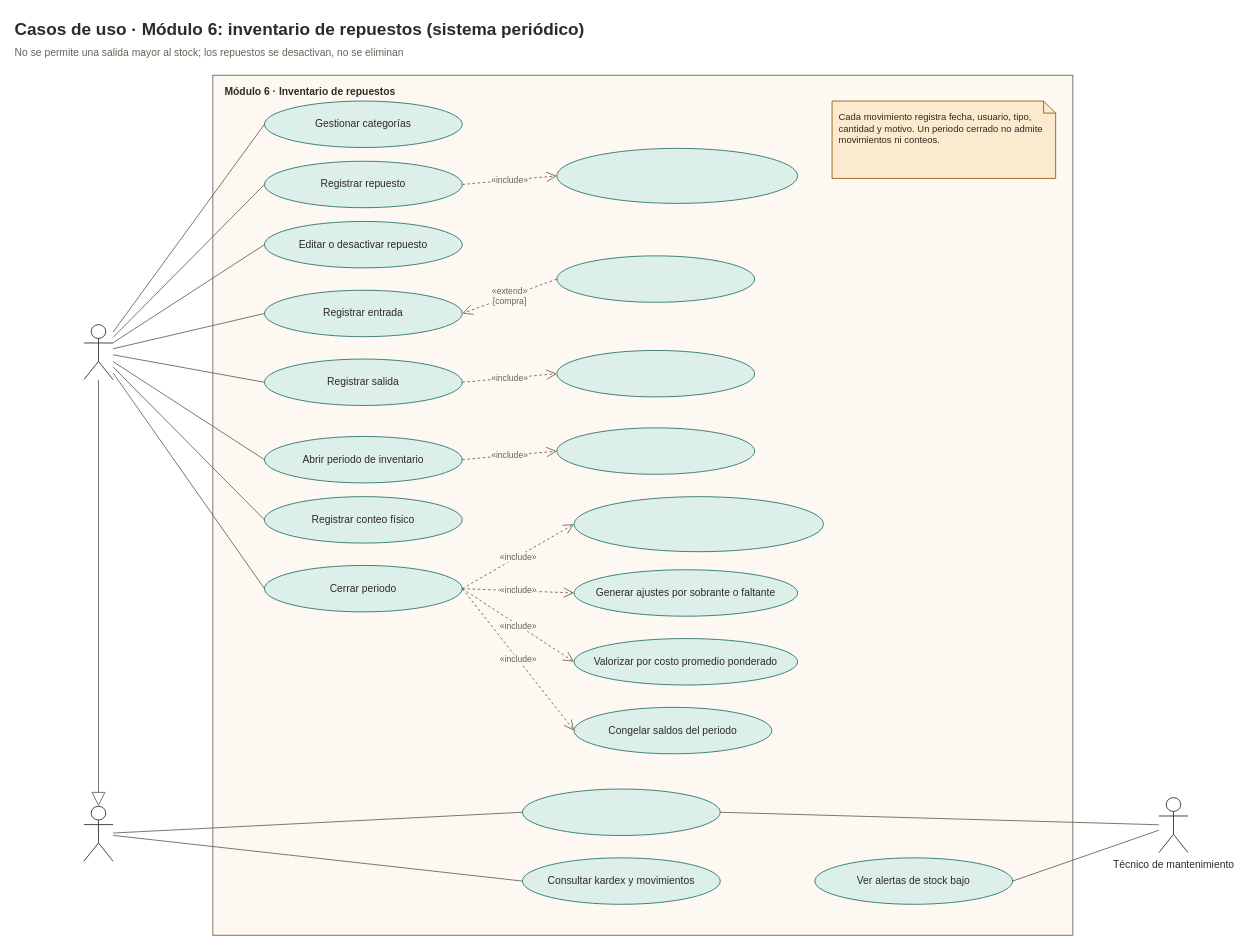
The diagram is 1249 pixels wide and 950 high, and some of its shapes have lost their labels. Each missing label, with the box of its shape:
Administrador: (83, 324, 113, 380)
Consultar repuestos y stock: (522, 788, 720, 835)
Definir compatibilidad con dispositivos y sensores: (556, 147, 798, 203)
Director/docente: (83, 805, 113, 861)
Registrar costo unitario (Bs): (556, 255, 755, 302)
Verificar periodos anteriores cerrados y conteo completo: (573, 496, 823, 552)
Verificar que no se superponga: (556, 427, 755, 474)
Verificar stock disponible: (556, 350, 755, 397)
